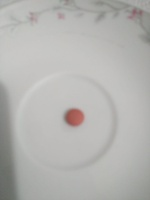Dolorex: (65, 108, 85, 127)
